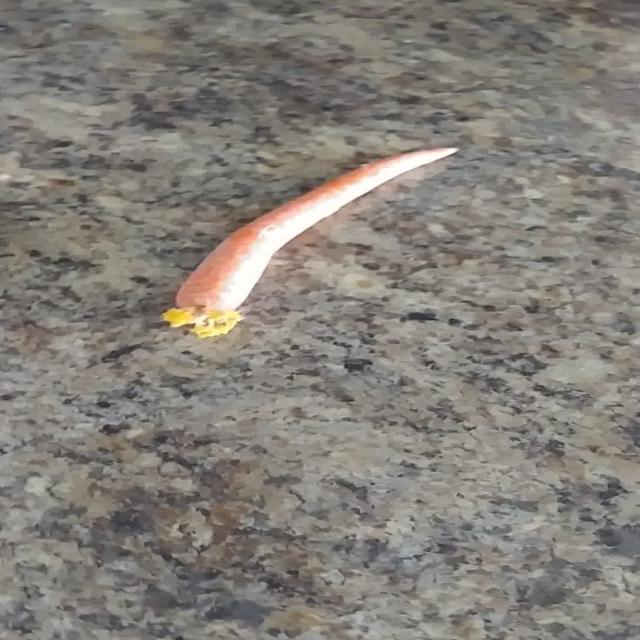carrot: (162, 148, 457, 337)
